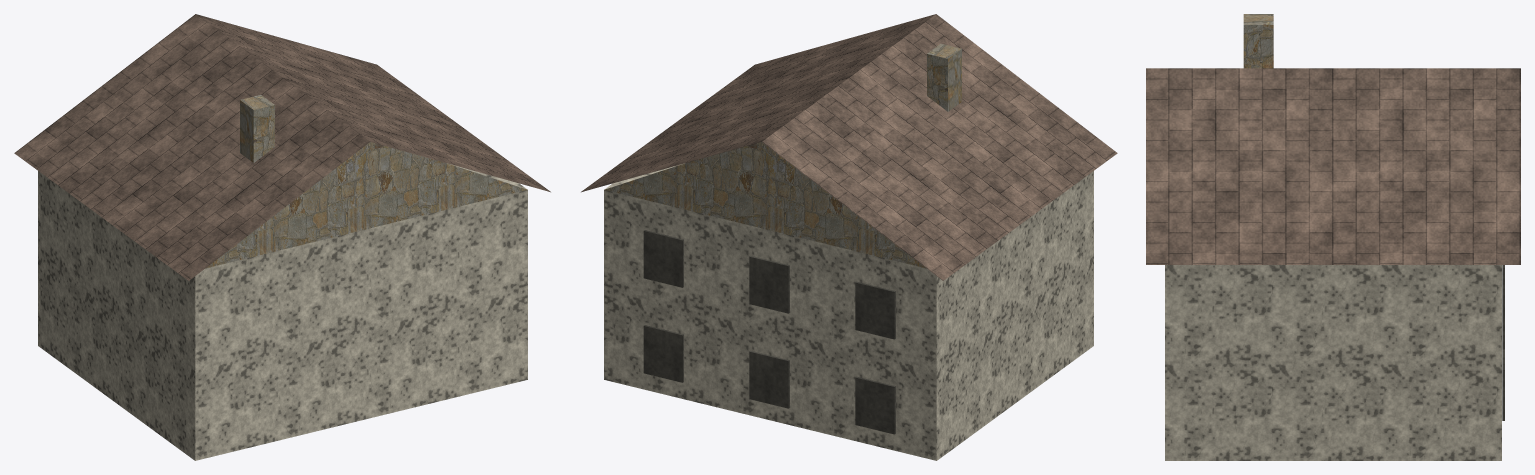
File: Strategic_House_0.fbx
3 views of the same model, side by side, from view 1: azimuth 30°, elevation 25°; view 2: azimuth 150°, elevation 25°; view 3: azimuth 270°, elevation 25° (orthographic). The views are drawn at different scales.
Parts seen in each view (by area): view 1: Strategic_House_0; view 2: Strategic_House_0; view 3: Strategic_House_0.
Boxes of the visible parts, left/top/right/bottom form: Strategic_House_0: left=14, top=14, right=550, bottom=460; Strategic_House_0: left=581, top=14, right=1117, bottom=460; Strategic_House_0: left=1146, top=14, right=1520, bottom=460.
Bounding box in the file's own units: 1200 × 950 × 1000.
